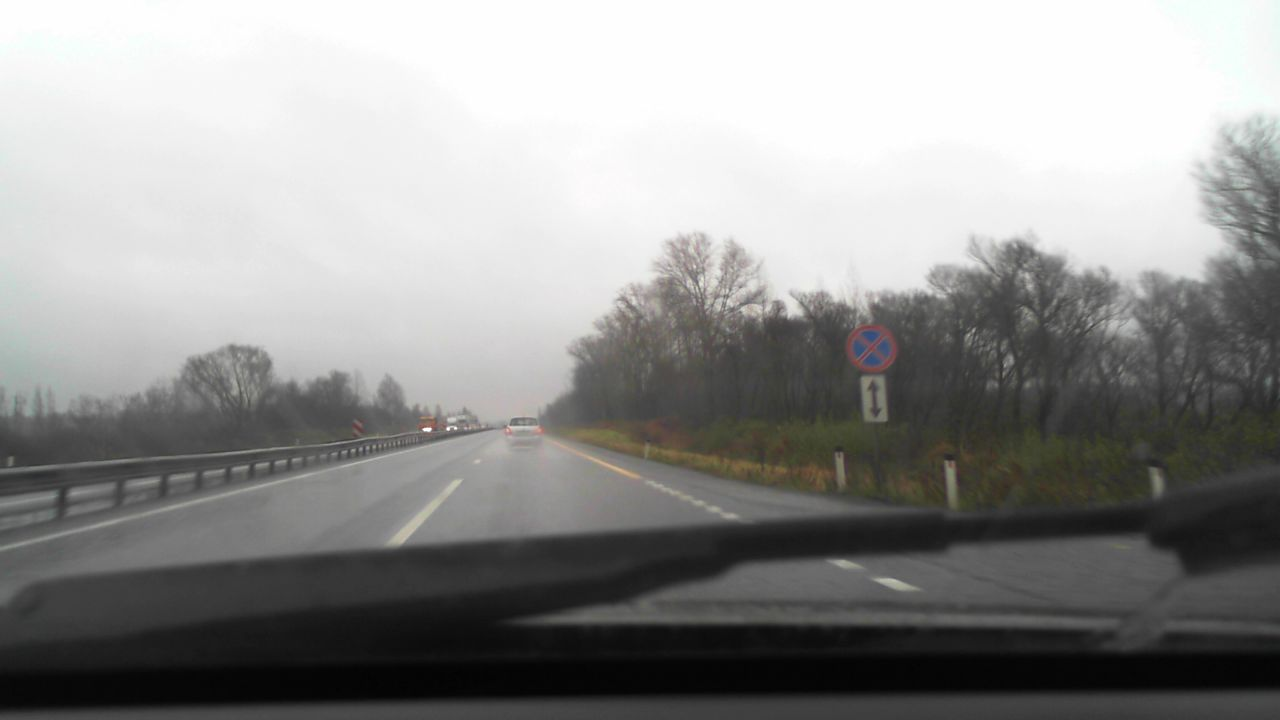No Parking: (845, 324, 896, 372)
